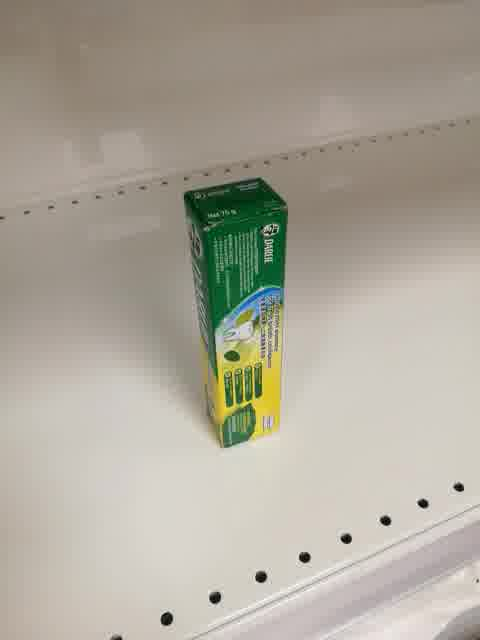toothpaste: (184, 176, 289, 448)
